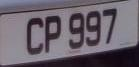7: (102, 6, 122, 47)
9: (66, 6, 87, 56), (85, 6, 104, 51)
C: (22, 14, 44, 58)
P: (42, 11, 64, 57)
